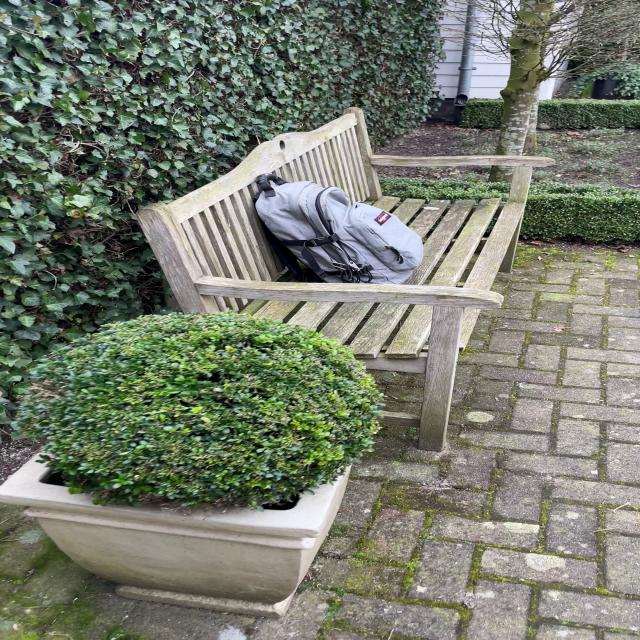backpack: (246, 172, 429, 286)
